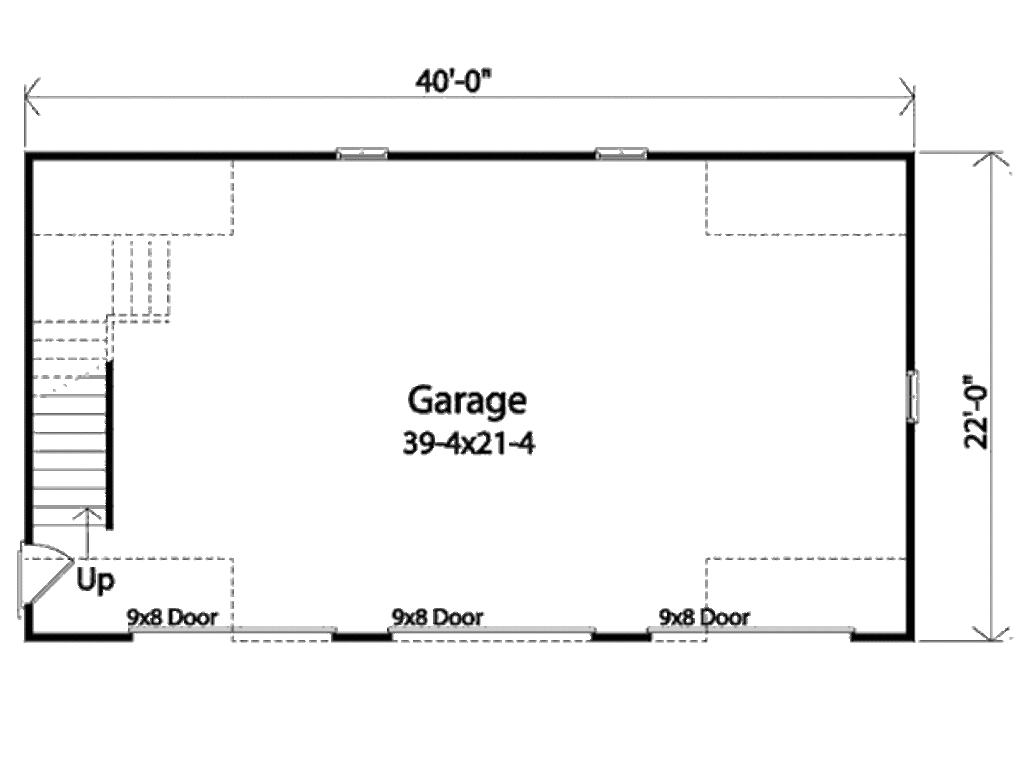door: (12, 534, 78, 614)
stairs: (31, 232, 175, 527)
window: (335, 139, 393, 164), (589, 147, 661, 167)
